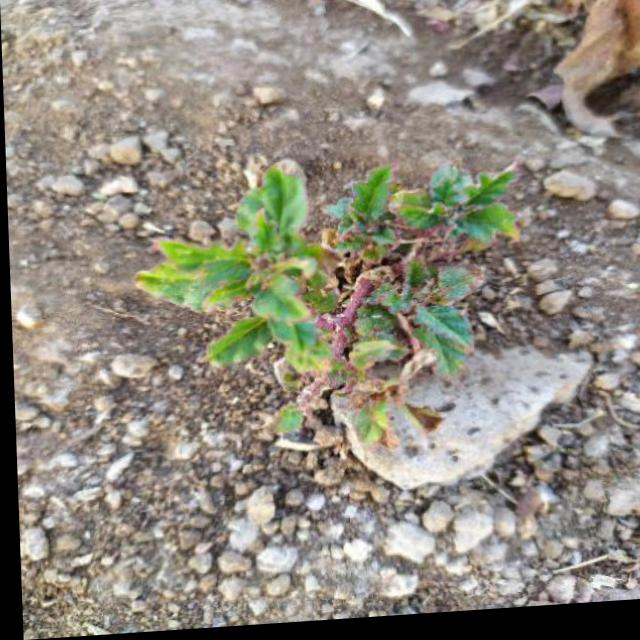weed: (134, 156, 527, 499)
